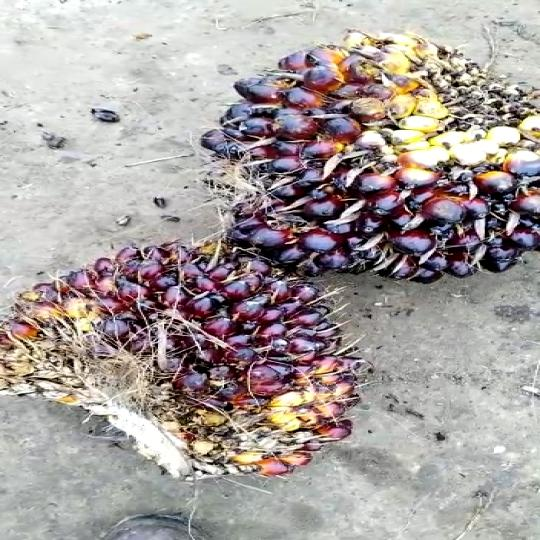kurang masak: (0, 231, 374, 482), (191, 41, 540, 302)
